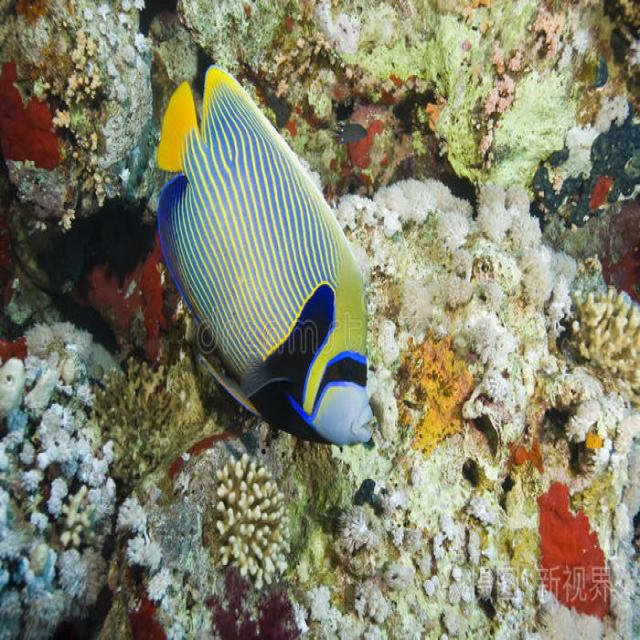AngelFish: (155, 67, 377, 446)
